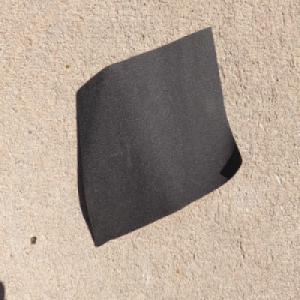PaintChip: (76, 25, 245, 250)
